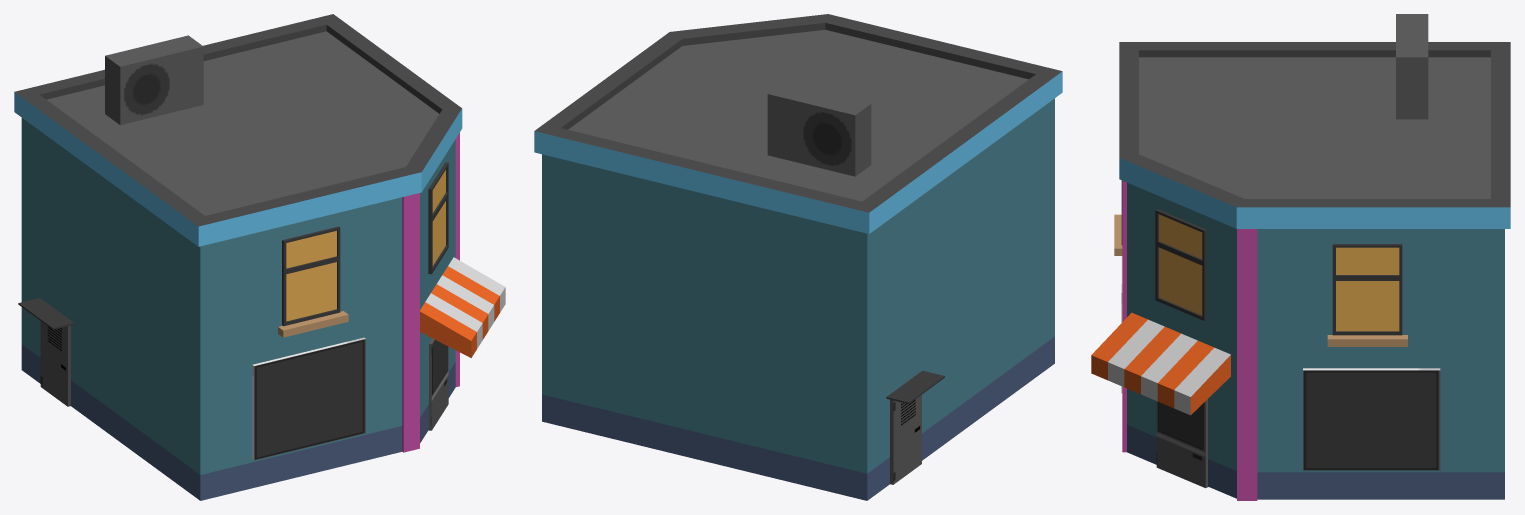
Rendered from shop 7.FBX.
The picture shows the model from 3 angles, left to right: view 1: azimuth 30°, elevation 25°; view 2: azimuth 150°, elevation 25°; view 3: azimuth 270°, elevation 25°; orthographic projection. The views are drawn at different scales.
Parts seen in each view (by area): view 1: B_15:Box279; view 2: B_15:Box279; view 3: B_15:Box279.
Part boxes in pixels (x1,y1,x2,y2): B_15:Box279: [14, 14, 505, 500]; B_15:Box279: [534, 14, 1062, 500]; B_15:Box279: [1091, 14, 1510, 500].
Size of the model in its own units: 528 by 466 by 505.
1 material, 1 textured.
